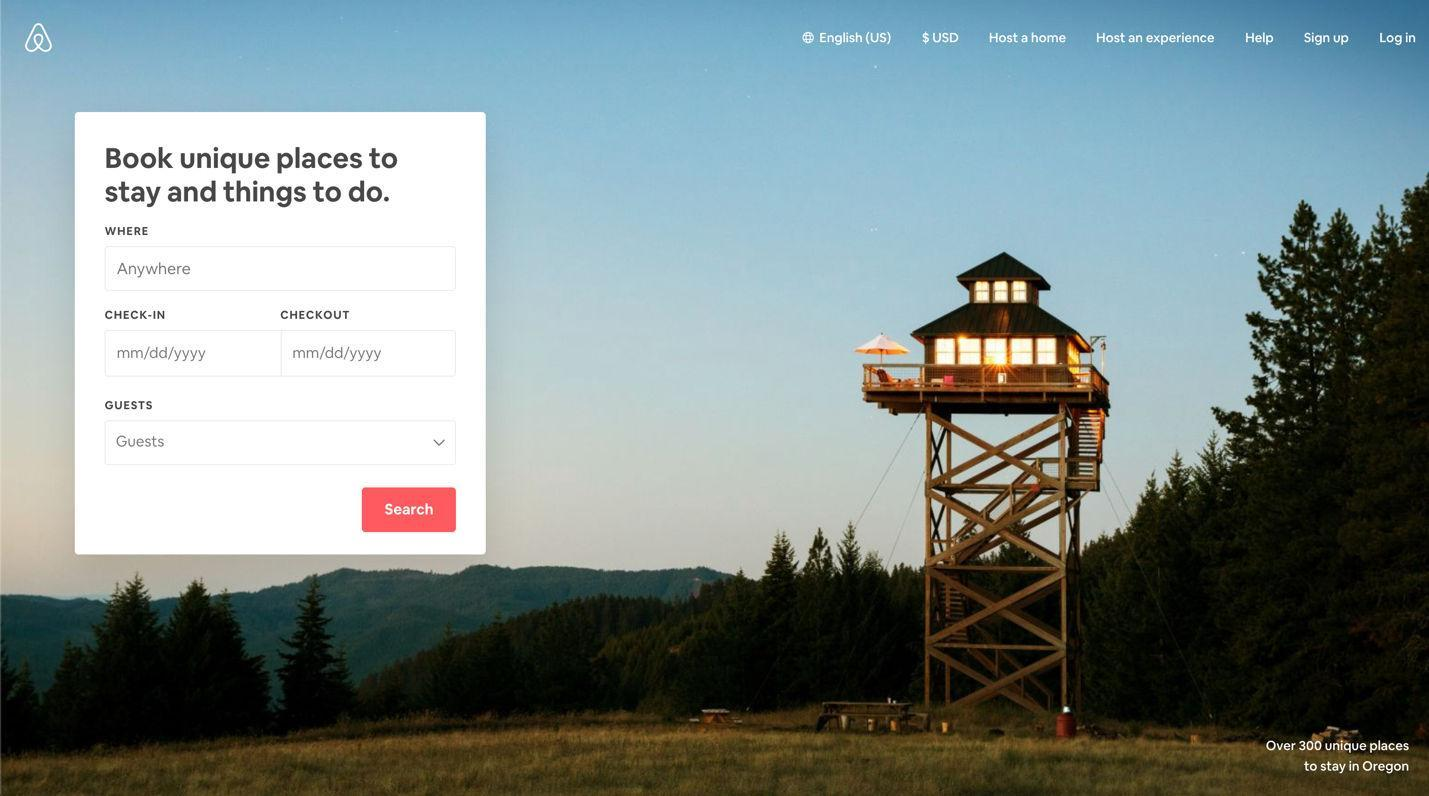button: (364, 489, 457, 532)
dropdown: (107, 420, 456, 465)
input: (106, 247, 456, 293), (105, 332, 283, 377), (284, 333, 458, 377)
label: (801, 26, 900, 54), (1096, 29, 1215, 50), (992, 29, 1080, 54), (275, 305, 361, 326), (102, 305, 176, 327), (99, 219, 159, 244), (100, 394, 164, 417), (1240, 26, 1284, 55), (912, 27, 964, 51), (1302, 29, 1355, 51), (1375, 26, 1420, 50)
